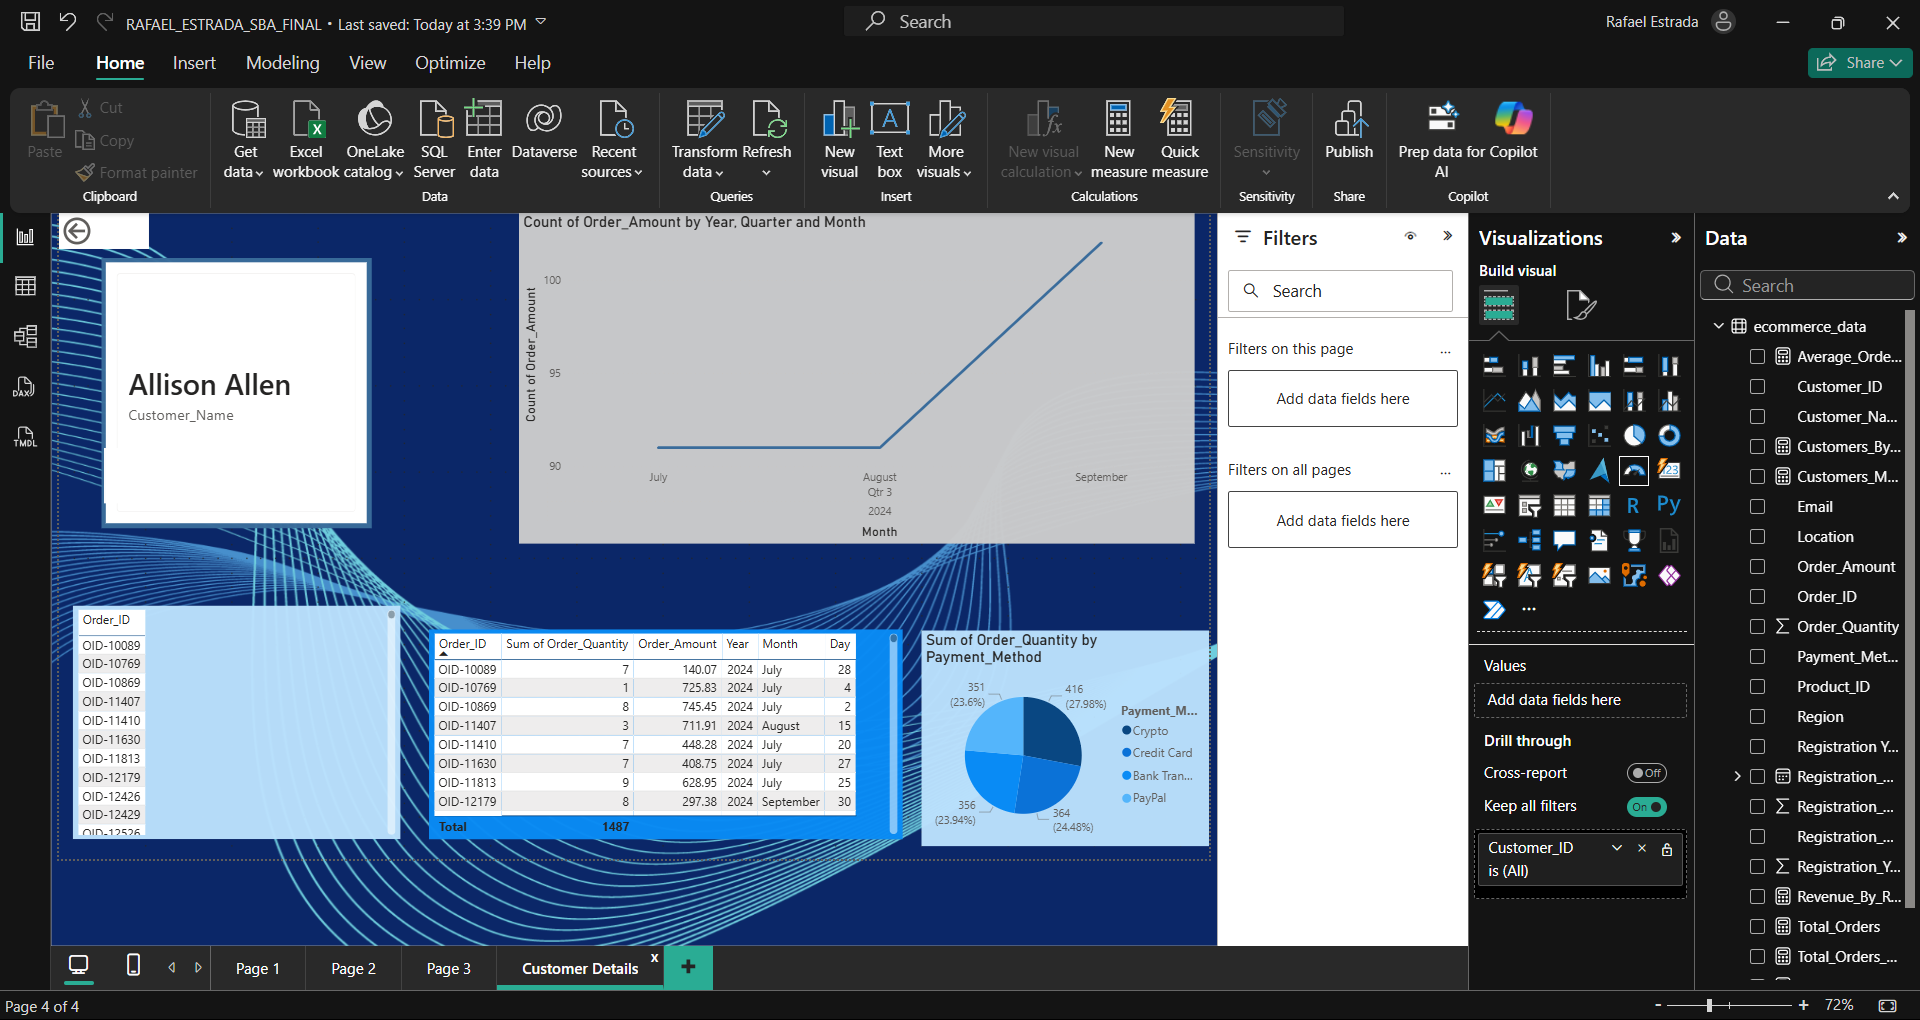

Layout of this report page (visuals, bound fields, positions):
{"tool":"powerbi","page":{"name":"Customer Details","canvas":[1280,720],"ordinal":3},"visuals":[{"type":"actionButton","box":[0,0,100,40],"z":0},{"type":"cardVisual","fields":{"Data":["Min(ecommerce_data.Customer_Name)"]},"box":[47.3,50.1,300.5,300.5],"z":1000},{"type":"tableEx","fields":{"Values":["ecommerce_data.Order_ID"]},"box":[15.3,436.9,364.5,260.2],"z":2000},{"type":"tableEx","fields":{"Values":["ecommerce_data.Order_ID","Sum(ecommerce_data.Order_Quantity)","ecommerce_data.Order_Amount","ecommerce_data.Registration_Date.Variation.Date Hierarchy.Year","ecommerce_data.Registration_Date.Variation.Date Hierarchy.Month","ecommerce_data.Registration_Date.Variation.Date Hierarchy.Day"]},"box":[411.7,463.8,526.9,233.3],"z":3000},{"type":"lineChart","fields":{"Category":["ecommerce_data.Registration_Date.Variation.Date Hierarchy.Year","ecommerce_data.Registration_Date.Variation.Date Hierarchy.Quarter","ecommerce_data.Registration_Date.Variation.Date Hierarchy.Month","ecommerce_data.Registration_Date.Variation.Date Hierarchy.Day"],"Y":["CountNonNull(ecommerce_data.Order_Amount)"]},"box":[512,0,752,368],"z":4000},{"type":"pieChart","fields":{"Category":["ecommerce_data.Payment_Method"],"Y":["Sum(ecommerce_data.Order_Quantity)"]},"box":[960,464,320,240],"z":5000},{"type":"actionButton","box":[0,0,100,40],"z":6000},{"type":"textbox","box":[50.1,261.6,126.6,61.2],"z":7000}]}

Visuals, with their boxes on the page's 1280x720 design canvas (x1, y1, x2, y2). These are canvas units, not pixel positions in the 1920x1020 screenshot, which may show the page scaled, cropped or inside an application window:
actionButton: 0:0:100:40
cardVisual - Min(ecommerce_data.Customer_Name): 47:50:348:351
tableEx - ecommerce_data.Order_ID: 15:437:380:697
tableEx - ecommerce_data.Order_ID x Sum(ecommerce_data.Order_Quantity): 412:464:939:697
lineChart - ecommerce_data.Registration_Date.Variation.Date Hierarchy.Year x ecommerce_data.Registration_Date.Variation.Date Hierarchy.Quarter: 512:0:1264:368
pieChart - ecommerce_data.Payment_Method x Sum(ecommerce_data.Order_Quantity): 960:464:1280:704
actionButton: 0:0:100:40
textbox: 50:262:177:323
